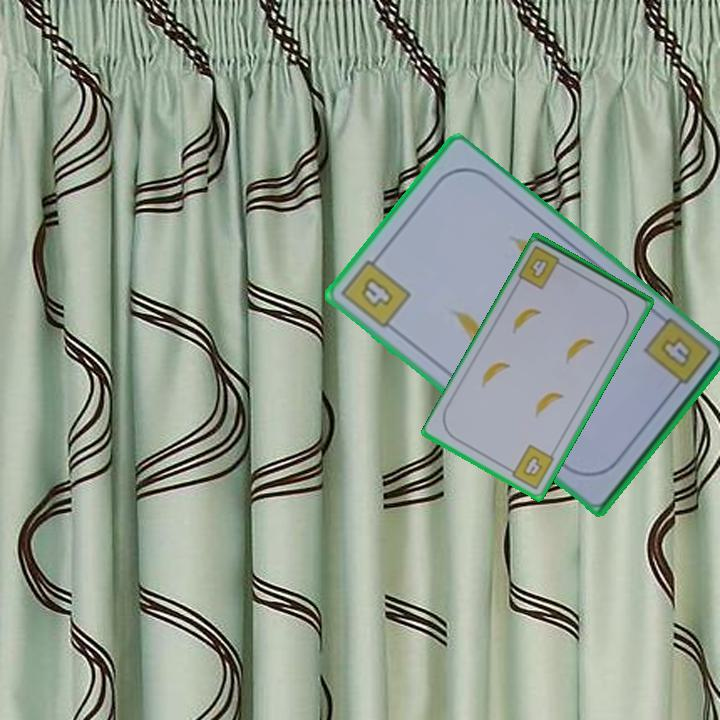4b: (337, 249, 414, 331), (639, 314, 714, 397), (503, 441, 558, 492), (515, 242, 570, 292)
